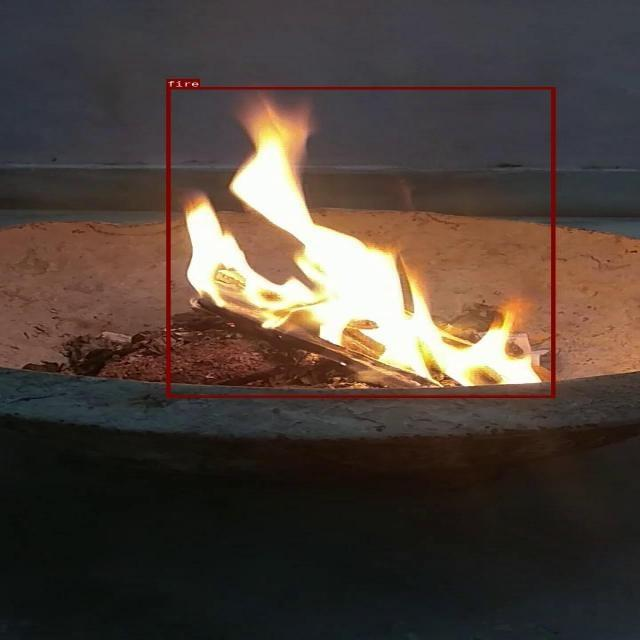fire: (166, 87, 555, 397)
